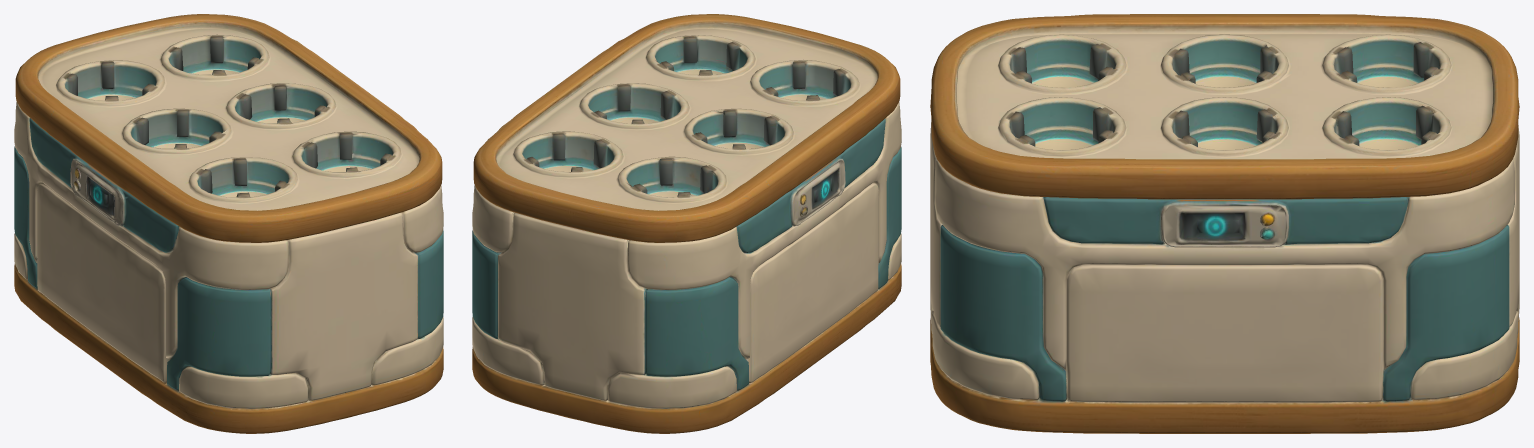
File: pack-toaster.glb
The picture shows the model from 3 angles, left to right: view 1: azimuth 30°, elevation 25°; view 2: azimuth 150°, elevation 25°; view 3: azimuth 270°, elevation 25°; orthographic projection. The views are drawn at different scales.
Visible parts, largest first — view 1: tripo_node_81225a07-efbc-42c1-a37a-fec2989b2248; view 2: tripo_node_81225a07-efbc-42c1-a37a-fec2989b2248; view 3: tripo_node_81225a07-efbc-42c1-a37a-fec2989b2248.
Part boxes in pixels (box(x1,y1,x2,y2)): tripo_node_81225a07-efbc-42c1-a37a-fec2989b2248: box(14, 14, 443, 433); tripo_node_81225a07-efbc-42c1-a37a-fec2989b2248: box(472, 14, 901, 433); tripo_node_81225a07-efbc-42c1-a37a-fec2989b2248: box(930, 14, 1519, 433).
Size of the model in its own units: 0.6377 by 0.4884 by 0.9786.
1 material, 1 textured.
